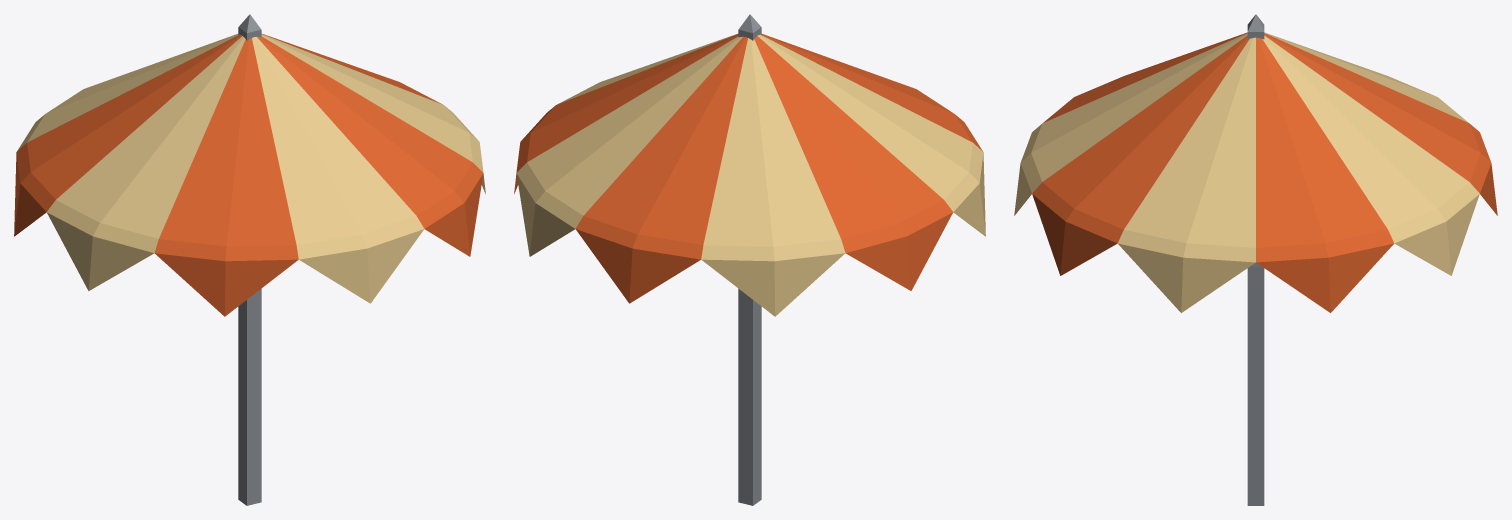
Rendered from SM_Umbrella.fbx.
3 views of the same model, side by side, from view 1: azimuth 30°, elevation 25°; view 2: azimuth 150°, elevation 25°; view 3: azimuth 270°, elevation 25° (orthographic).
Visible parts, largest first — view 1: SM_Umbrella_LOD0; view 2: SM_Umbrella_LOD0; view 3: SM_Umbrella_LOD0.
Part boxes in pixels (bbox=[...]): SM_Umbrella_LOD0: bbox=[14, 14, 485, 505]; SM_Umbrella_LOD0: bbox=[514, 14, 985, 505]; SM_Umbrella_LOD0: bbox=[1014, 14, 1497, 505].
Bounding box in the file's own units: 333 × 342 × 381.
Materials: 1 (1 with a texture image).
